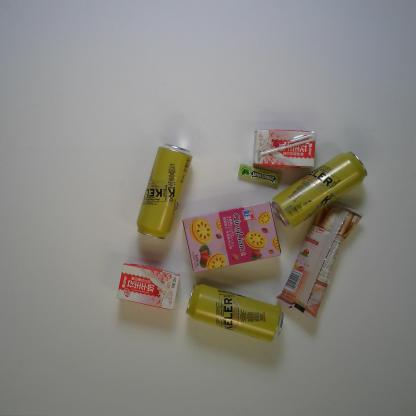Alcohol: (270, 149, 370, 228), (184, 281, 286, 347), (135, 142, 195, 241)
Dessert: (272, 198, 366, 322), (179, 197, 285, 275)
Gum: (237, 162, 281, 189)
Milk: (115, 264, 182, 312), (252, 128, 318, 171)
